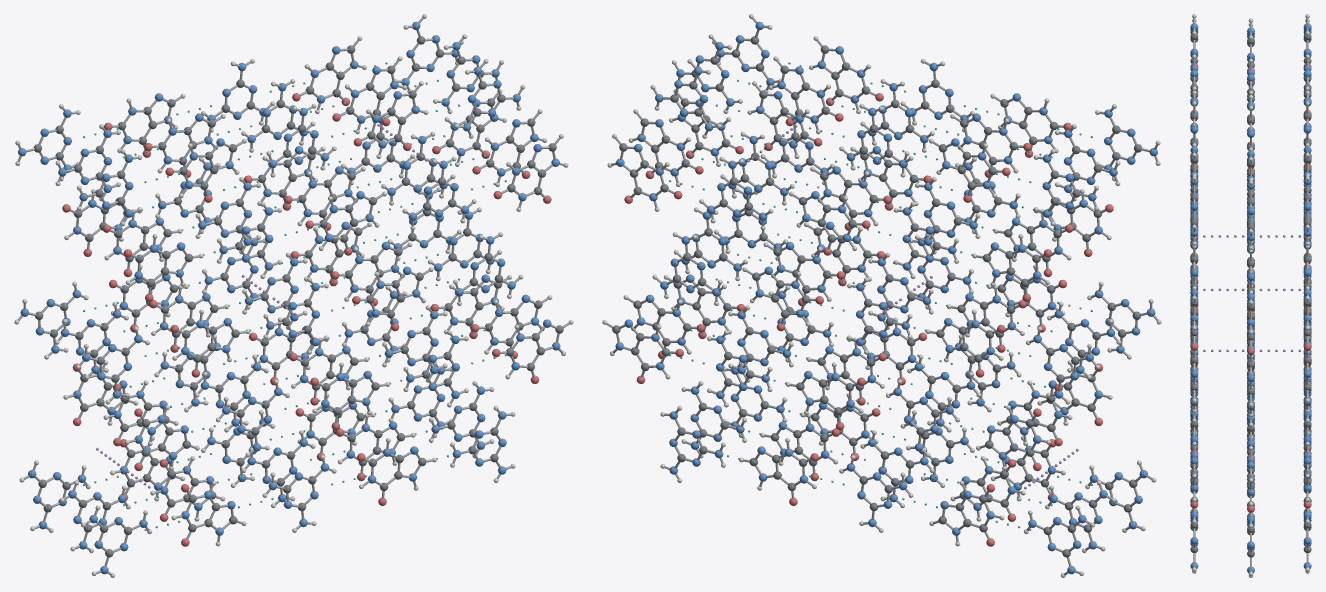
Rendered from Melamine_UricAcid_2D_network_layered_SCHEMATIC.glb.
The picture shows the model from 3 angles, left to right: view 1: azimuth 30°, elevation 25°; view 2: azimuth 150°, elevation 25°; view 3: azimuth 270°, elevation 25°; orthographic projection. The views are drawn at different scales.
Parts seen in each view (by area): view 1: world; view 2: world; view 3: world.
Boxes of the visible parts, box(x1,y1,x2,y2) form: world: box(14, 14, 573, 577); world: box(602, 14, 1161, 577); world: box(1190, 14, 1311, 577).
Bounding box in the file's own units: 34.75 × 28.02 × 7.82.
